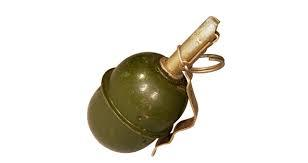RGD 5: (87, 16, 222, 153)
